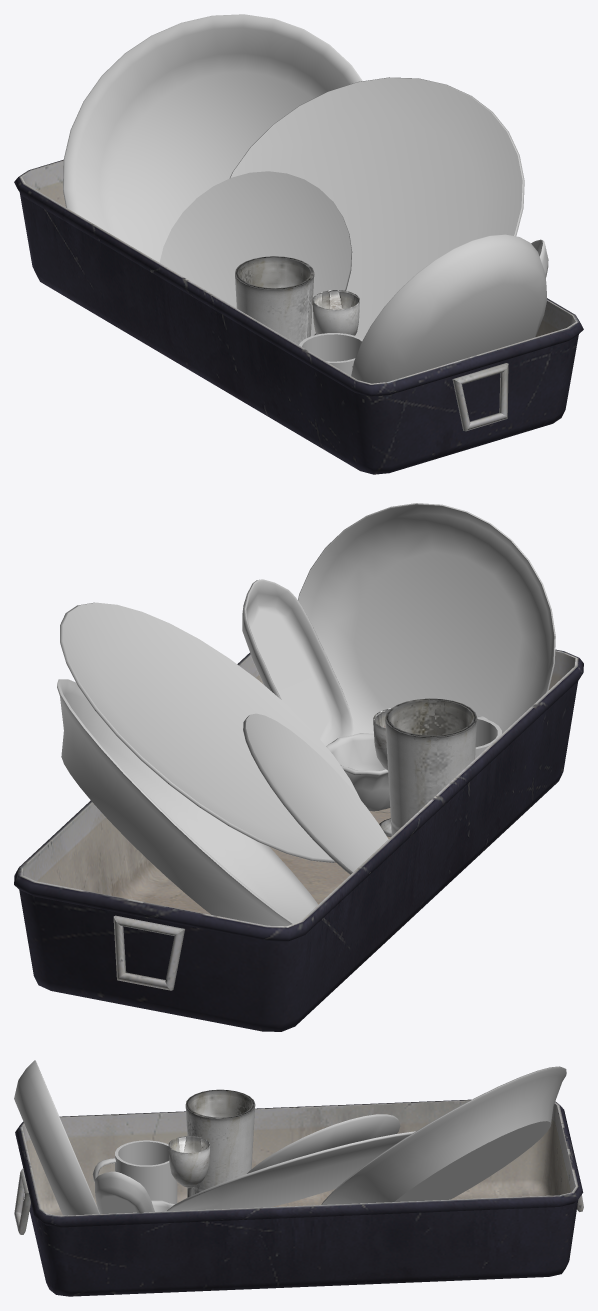
The model's file is cozinha5.fbx.
3 renders of one model, top to bottom at view 1: azimuth 30°, elevation 25°; view 2: azimuth 150°, elevation 25°; view 3: azimuth 270°, elevation 25°, orthographic. The views are drawn at different scales.
Parts seen in each view (by area): view 1: SM_DishTray_01, SM_Plate_04.001, SM_Plate_01.001, SM_Plate_05.001, SM_Plate_03.001, SM_TallGlass.001, SM_WineGlass.001, SM_Cup.001; view 2: SM_DishTray_01, SM_Plate_05.001, SM_Plate_01.001, SM_Plate_04.001, SM_Plate_03.001, SM_Plate_02.001, SM_TallGlass.001, SM_Teacup.001, SM_WineGlass.001, SM_Cup.001; view 3: SM_DishTray_01, SM_Plate_04.001, SM_Plate_01.001, SM_Plate_05.001, SM_TallGlass.001, SM_Cup.001, SM_Plate_03.001, SM_Plate_02.001, SM_WineGlass.001.
Boxes of the visible parts, x1,y1,x2,y2 form: SM_DishTray_01: [14, 160, 583, 474]; SM_Plate_04.001: [63, 14, 362, 262]; SM_Plate_01.001: [229, 77, 524, 338]; SM_Plate_05.001: [351, 234, 546, 383]; SM_Plate_03.001: [159, 171, 352, 336]; SM_TallGlass.001: [235, 256, 314, 344]; SM_WineGlass.001: [312, 290, 359, 335]; SM_Cup.001: [299, 333, 362, 375]; SM_DishTray_01: [14, 649, 583, 1031]; SM_Plate_05.001: [298, 503, 555, 735]; SM_Plate_01.001: [60, 602, 360, 862]; SM_Plate_04.001: [57, 679, 318, 926]; SM_Plate_03.001: [243, 713, 388, 874]; SM_Plate_02.001: [242, 579, 353, 745]; SM_TallGlass.001: [385, 698, 477, 835]; SM_Teacup.001: [326, 733, 390, 811]; SM_WineGlass.001: [373, 708, 391, 836]; SM_Cup.001: [475, 716, 501, 758]; SM_DishTray_01: [14, 1099, 583, 1296]; SM_Plate_04.001: [321, 1066, 566, 1204]; SM_Plate_01.001: [167, 1131, 415, 1211]; SM_Plate_05.001: [14, 1060, 99, 1215]; SM_TallGlass.001: [185, 1089, 255, 1195]; SM_Cup.001: [92, 1140, 177, 1204]; SM_Plate_03.001: [247, 1114, 400, 1173]; SM_Plate_02.001: [95, 1171, 154, 1213]; SM_WineGlass.001: [168, 1136, 210, 1197].
Bounding box in the file's own units: 40.11 × 25.71 × 67.12.
